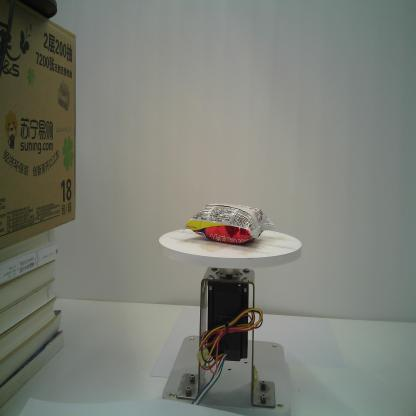Dessert: (182, 202, 276, 246)
